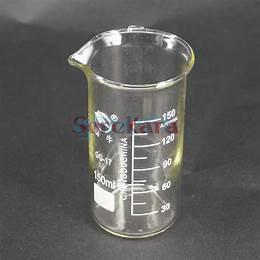Beaker: (70, 21, 198, 244)
